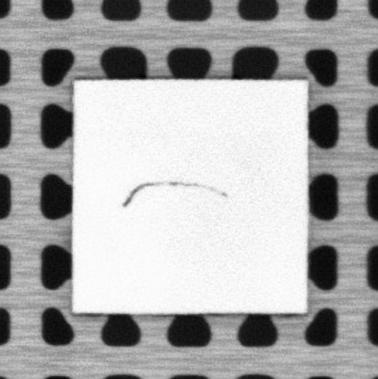DIE_INK: (122, 180, 229, 207)
